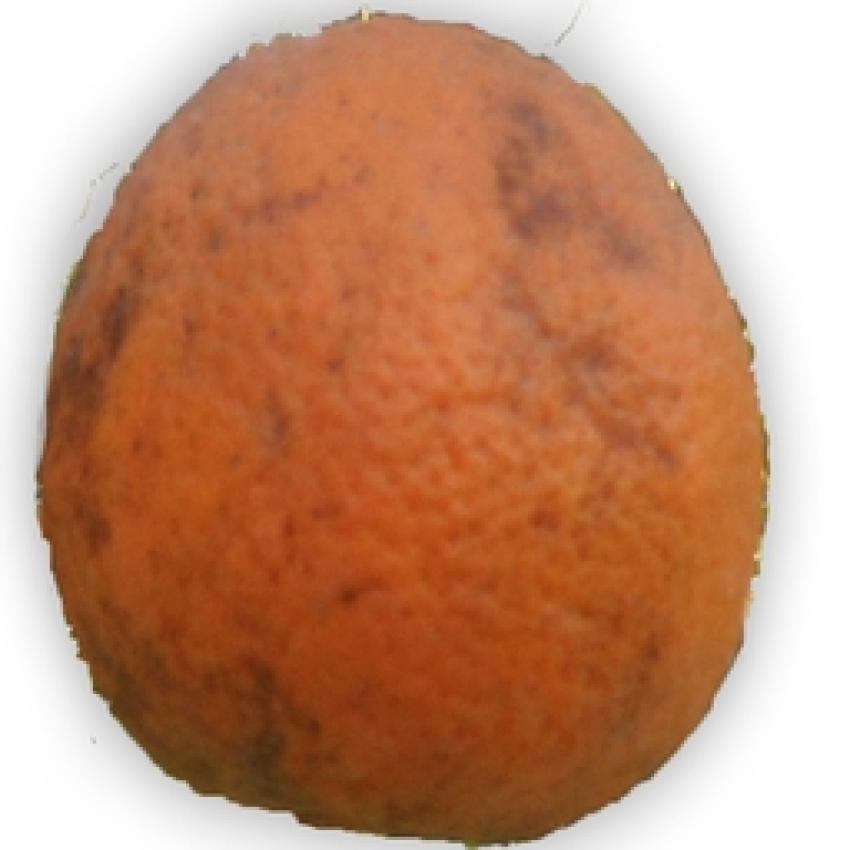Mal estado: (20, 0, 799, 845)
